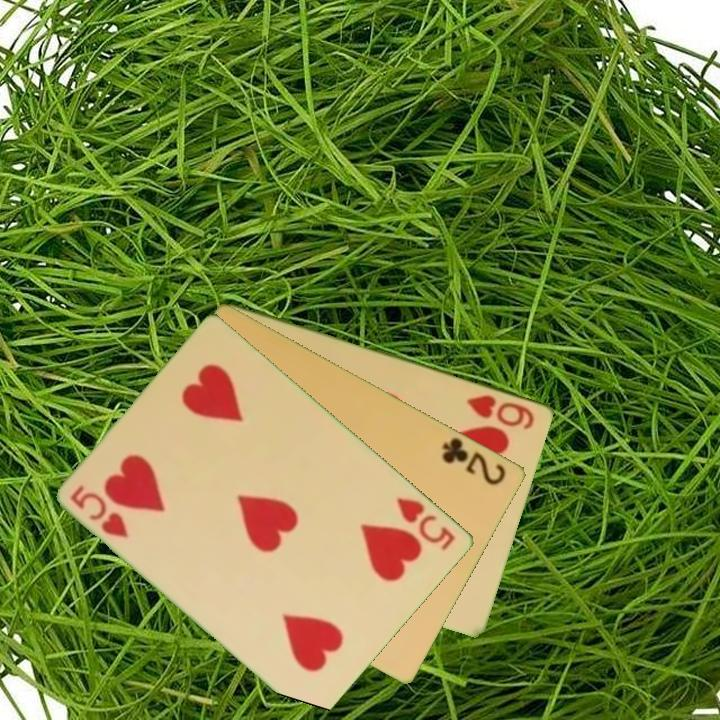2c: (439, 433, 510, 488)
5h: (393, 494, 459, 554), (67, 481, 133, 541)
6h: (463, 390, 538, 433)
